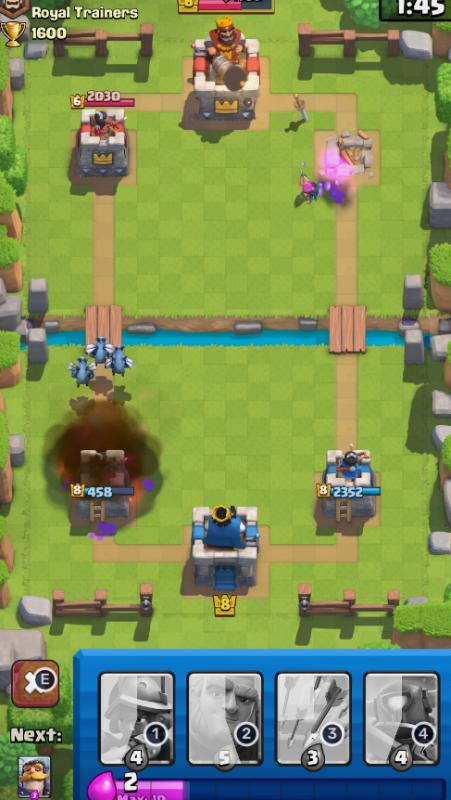archere: (293, 165, 326, 206)
gargouille: (74, 327, 121, 373), (67, 343, 99, 391), (107, 338, 141, 378)
